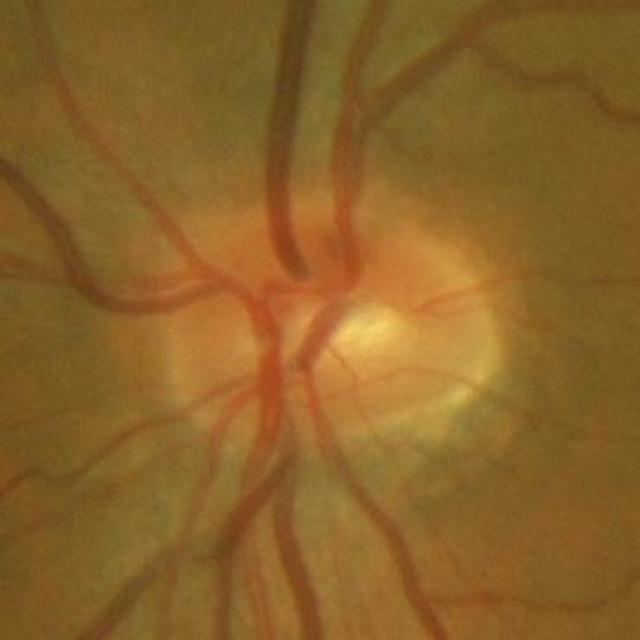OC: (290, 294, 414, 378)
OD: (159, 197, 498, 449)
